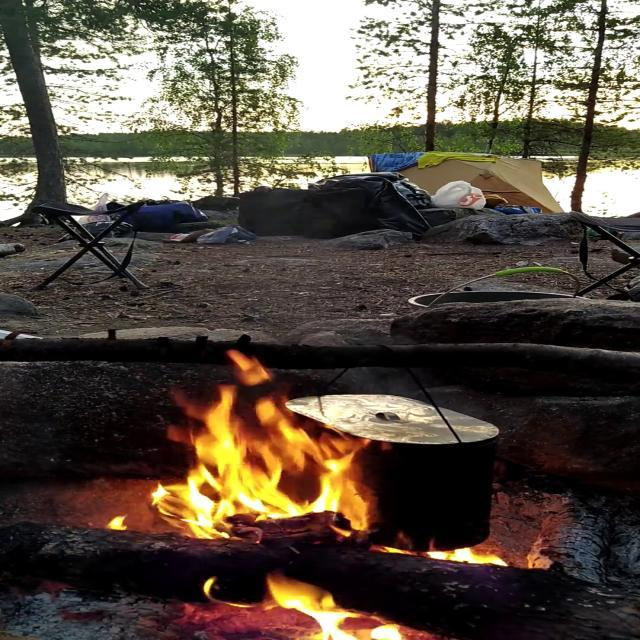Fire: (122, 346, 378, 544), (194, 569, 412, 640), (416, 541, 530, 569)
